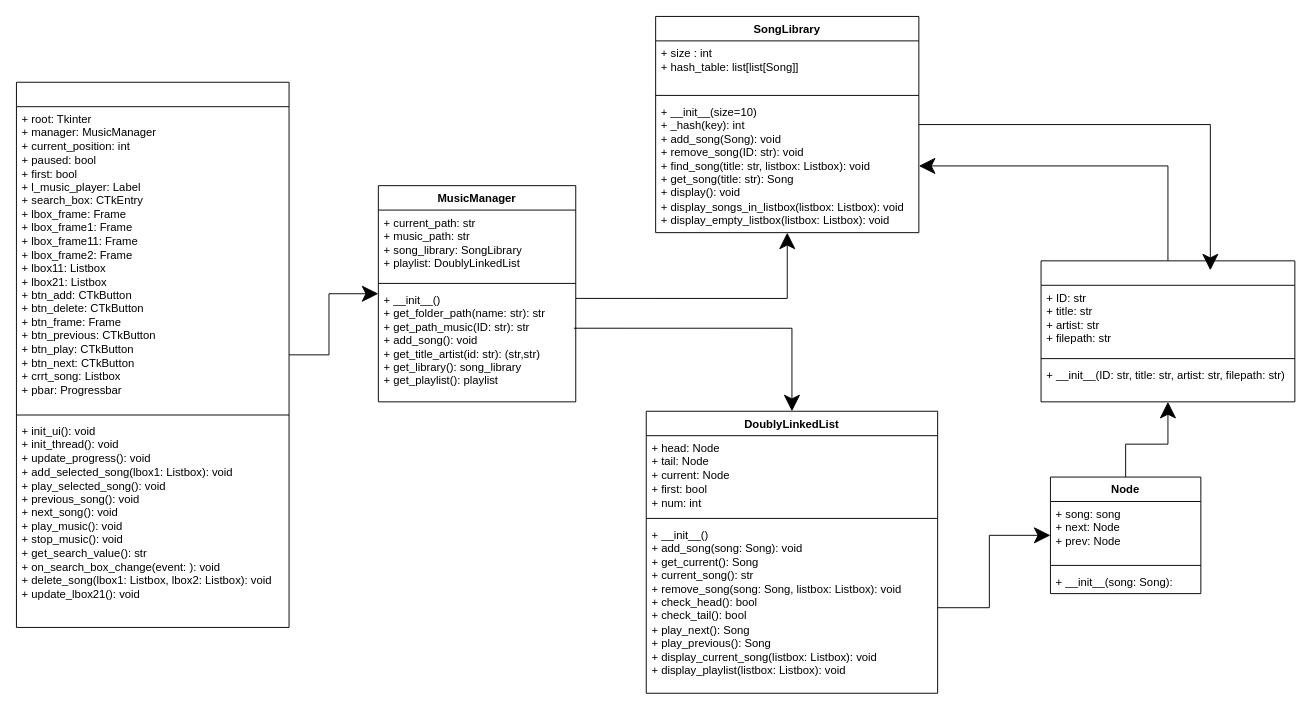
Some shapes in this 1311 by 713 pixel diagram are drawn without their labels. Each missing label, with the box of its shape:
MusicPlayerApp: (16, 81, 289, 627)
Song: (1040, 260, 1295, 402)
